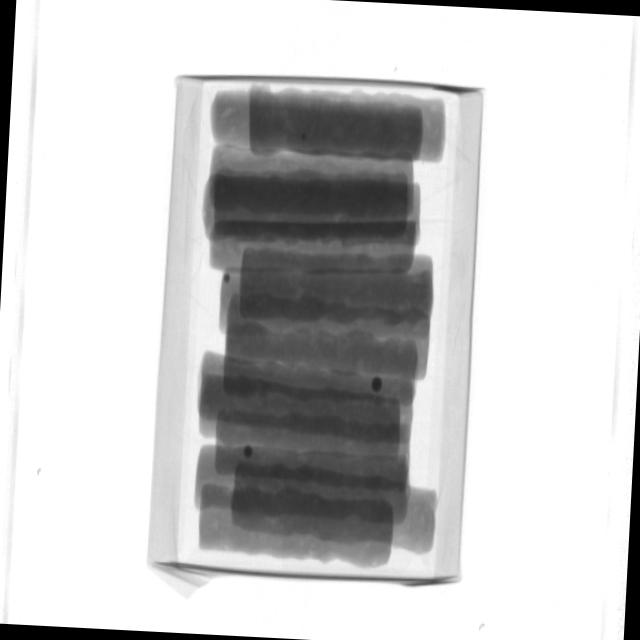ym: (372, 378, 384, 394), (245, 447, 254, 459), (224, 274, 232, 284), (302, 135, 308, 141)
